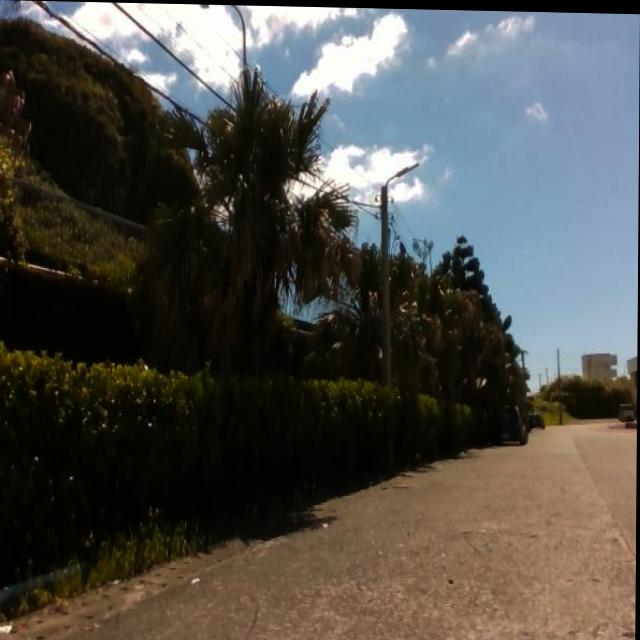pollute: (0, 620, 20, 636)
